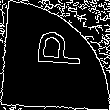P_W: (27, 34, 83, 76)
